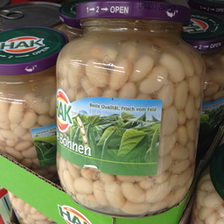beans: (57, 2, 200, 207), (1, 28, 58, 179)
